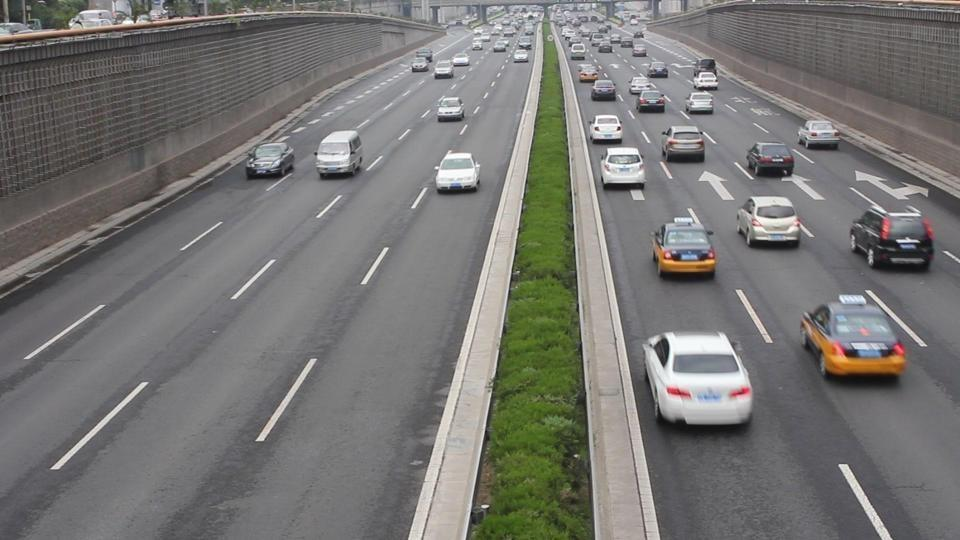car: (642, 330, 754, 427), (799, 295, 907, 379), (848, 206, 936, 271), (651, 221, 718, 279), (735, 195, 802, 248), (315, 129, 365, 178), (599, 147, 647, 189), (434, 151, 482, 193), (745, 142, 796, 179), (245, 143, 296, 179), (660, 124, 706, 162), (796, 119, 841, 150), (588, 113, 624, 144), (69, 10, 117, 29), (436, 97, 465, 121), (590, 79, 618, 100), (0, 21, 35, 36), (410, 51, 433, 72)
